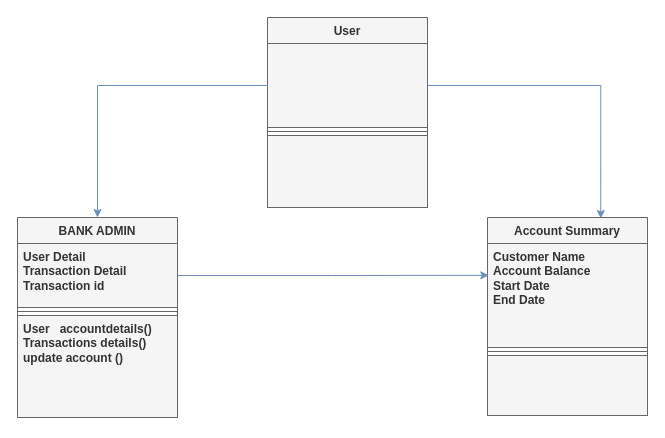
The diagram is 665 pixels wide and 438 high, and some of its shapes have lost their labels. Each missing label, with the centre of its shape:
"Create Account() Void deposit() void Withdraw() Void Transfer()" goes at point (347, 171).
"Update Account () Check Account balance()" goes at point (567, 385).
"User Name Account Number Phone Number Address Email" goes at point (347, 85).
